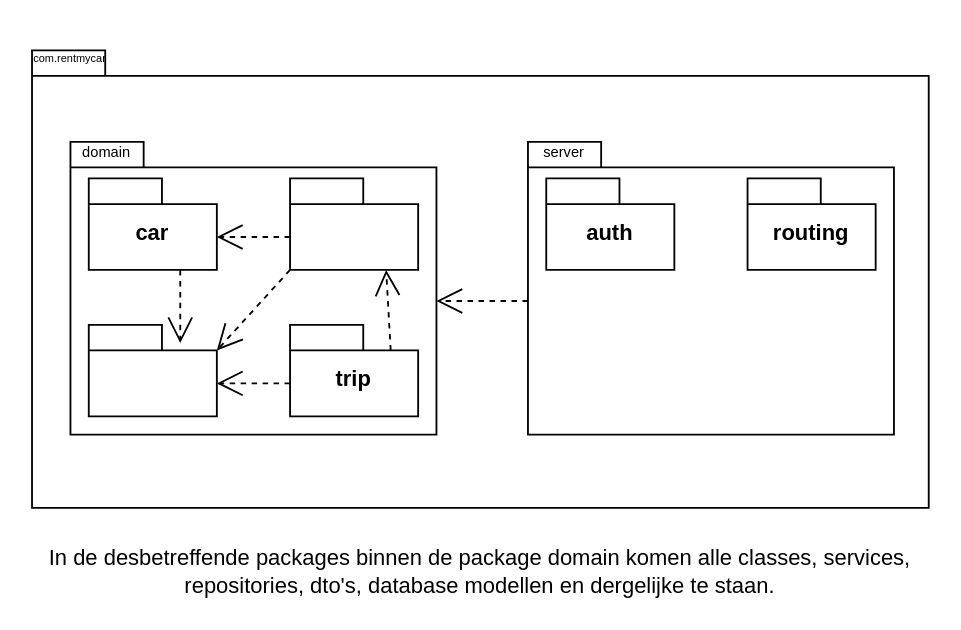
This 961x630 diagram has some shape labels left out. The shapes that lost their labels are listed below. From the top down, each one's box as (x1, y1, x2, y2) in pixels, then its label:
(288, 177, 418, 270): rental
(87, 323, 217, 416): user
